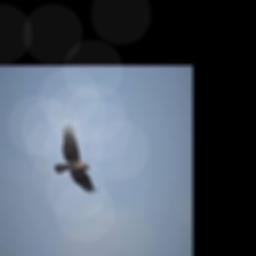Crow: (54, 123, 94, 193)
